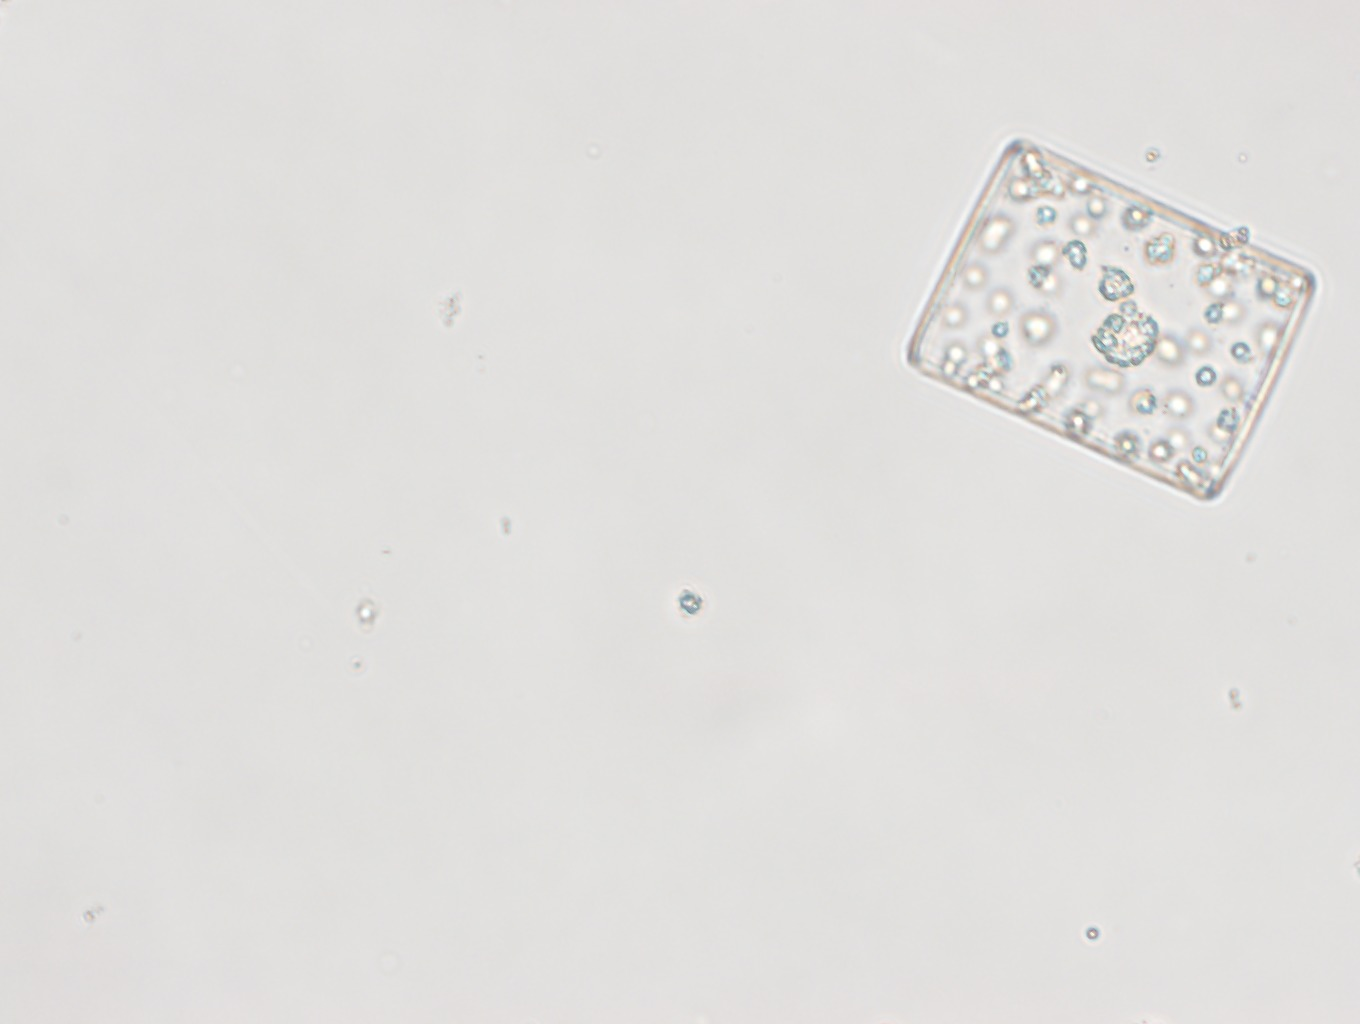guinardia flaccida: (910, 139, 1316, 500)
